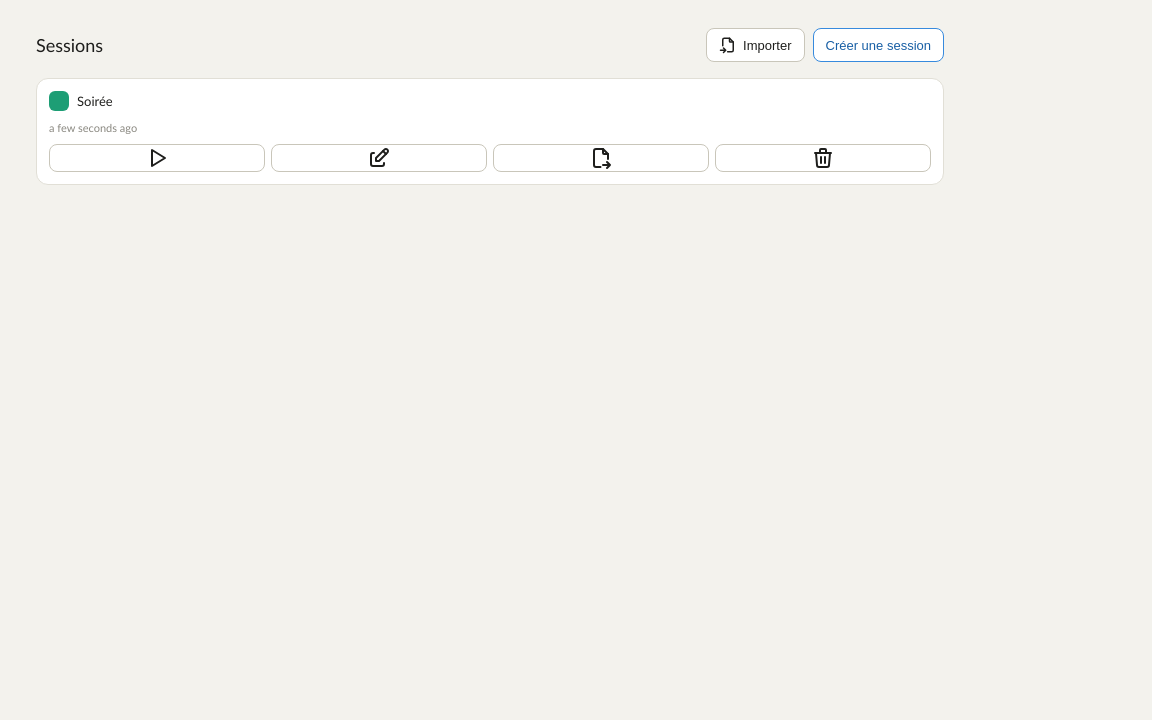
Test: WorkflowDashboard › export / import › shows the media error dialog when export returns issues
Click the button named "Exporter" at (601, 158), box [493, 144, 709, 172]
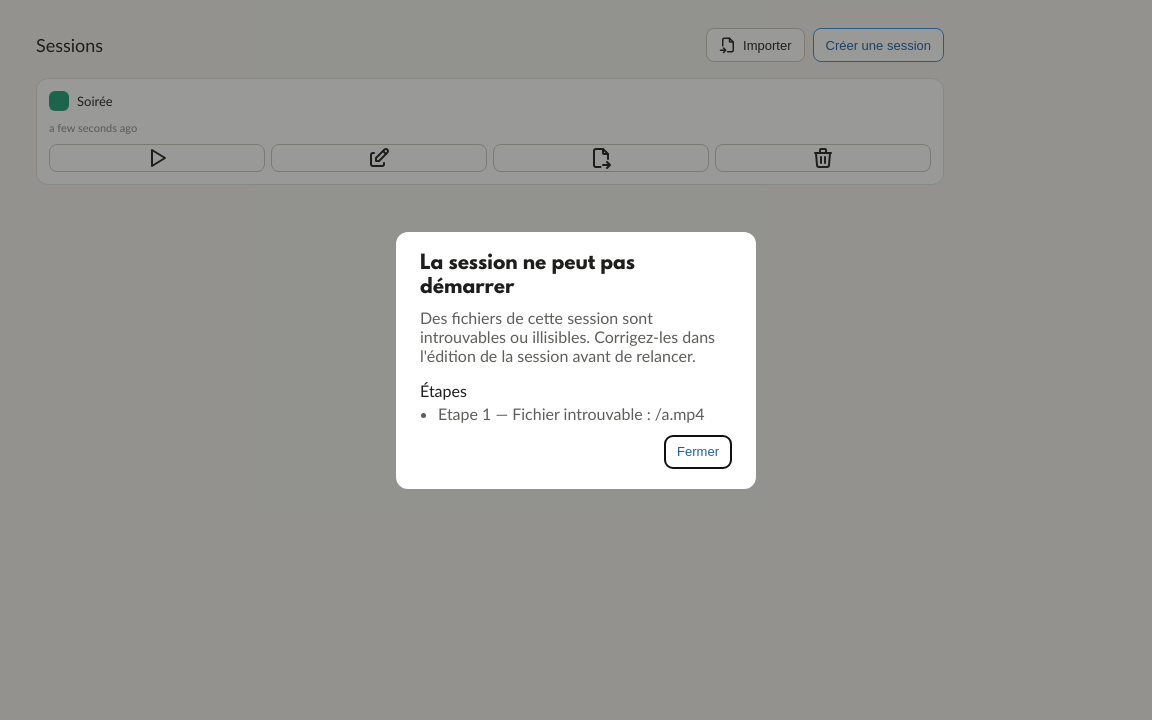
Now the dialog is shown, box [396, 232, 756, 488]
Now the list item "Etape 1 — Fichier introuvable : /a.mp4" is shown, box [438, 404, 732, 422]
